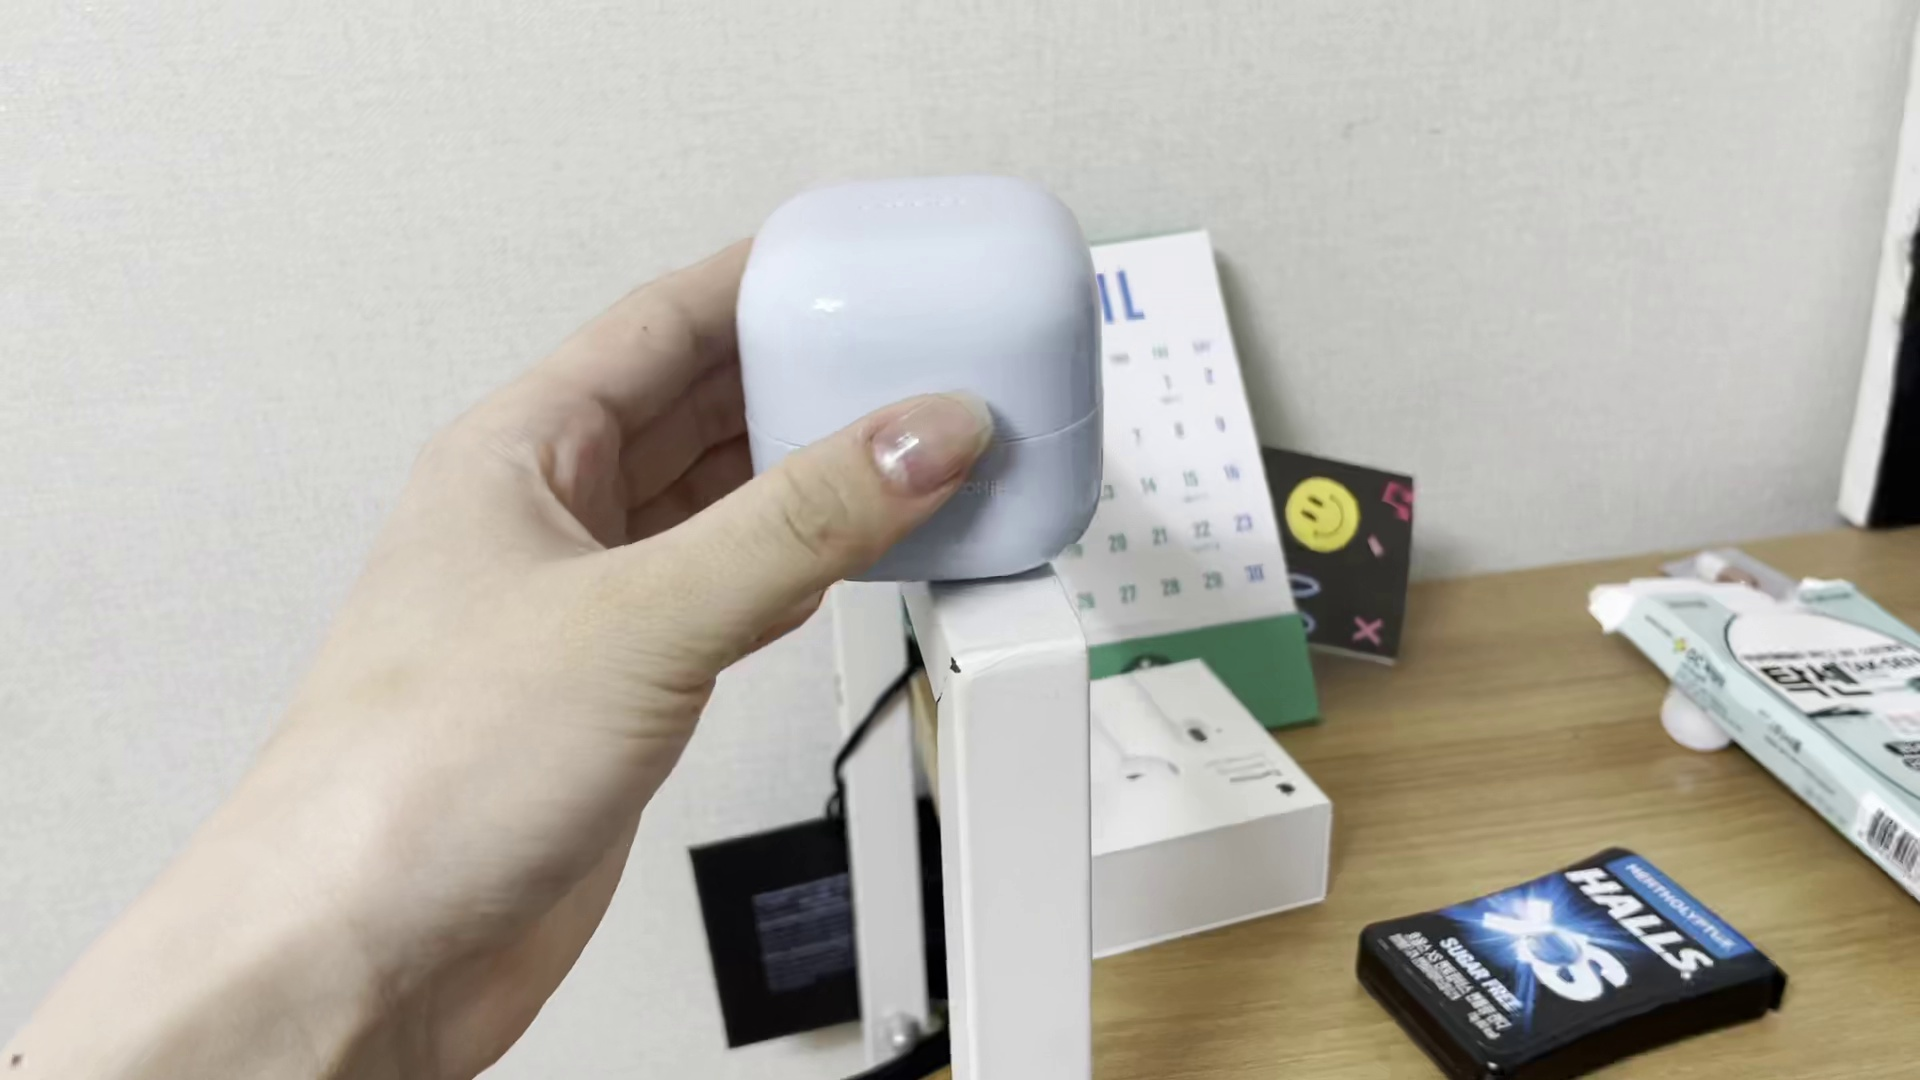cream: (738, 178, 1102, 580)
